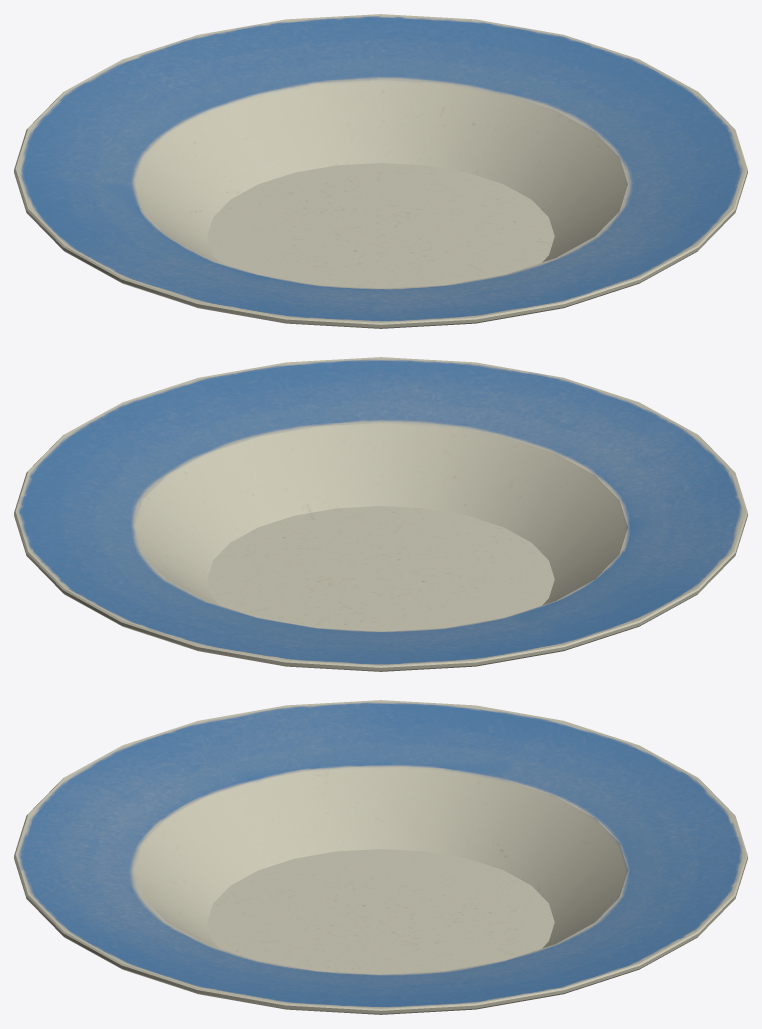
File: cap.fbx
3 views of the same model, one above another, from view 1: azimuth 30°, elevation 25°; view 2: azimuth 150°, elevation 25°; view 3: azimuth 270°, elevation 25° (orthographic).
Parts seen in each view (by area): view 1: plate; view 2: plate; view 3: plate.
Boxes of the visible parts, <box> form: plate: <box>14,14,747,328</box>; plate: <box>14,357,747,671</box>; plate: <box>14,700,747,1014</box>.
Size of the model in its own units: 200 by 24.64 by 200.
